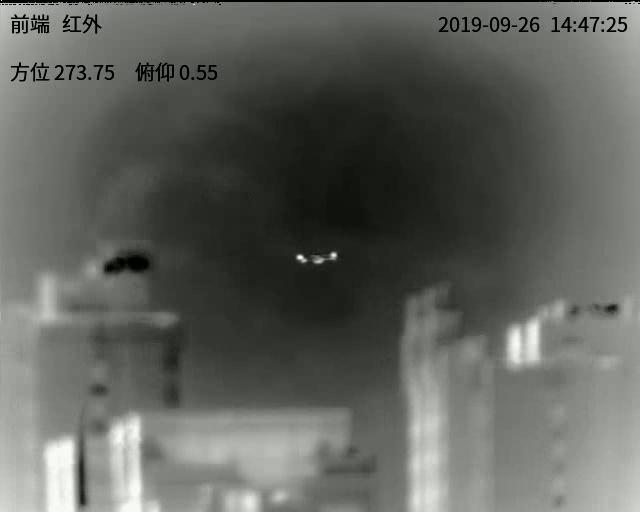DRONE: (295, 251, 339, 267)
